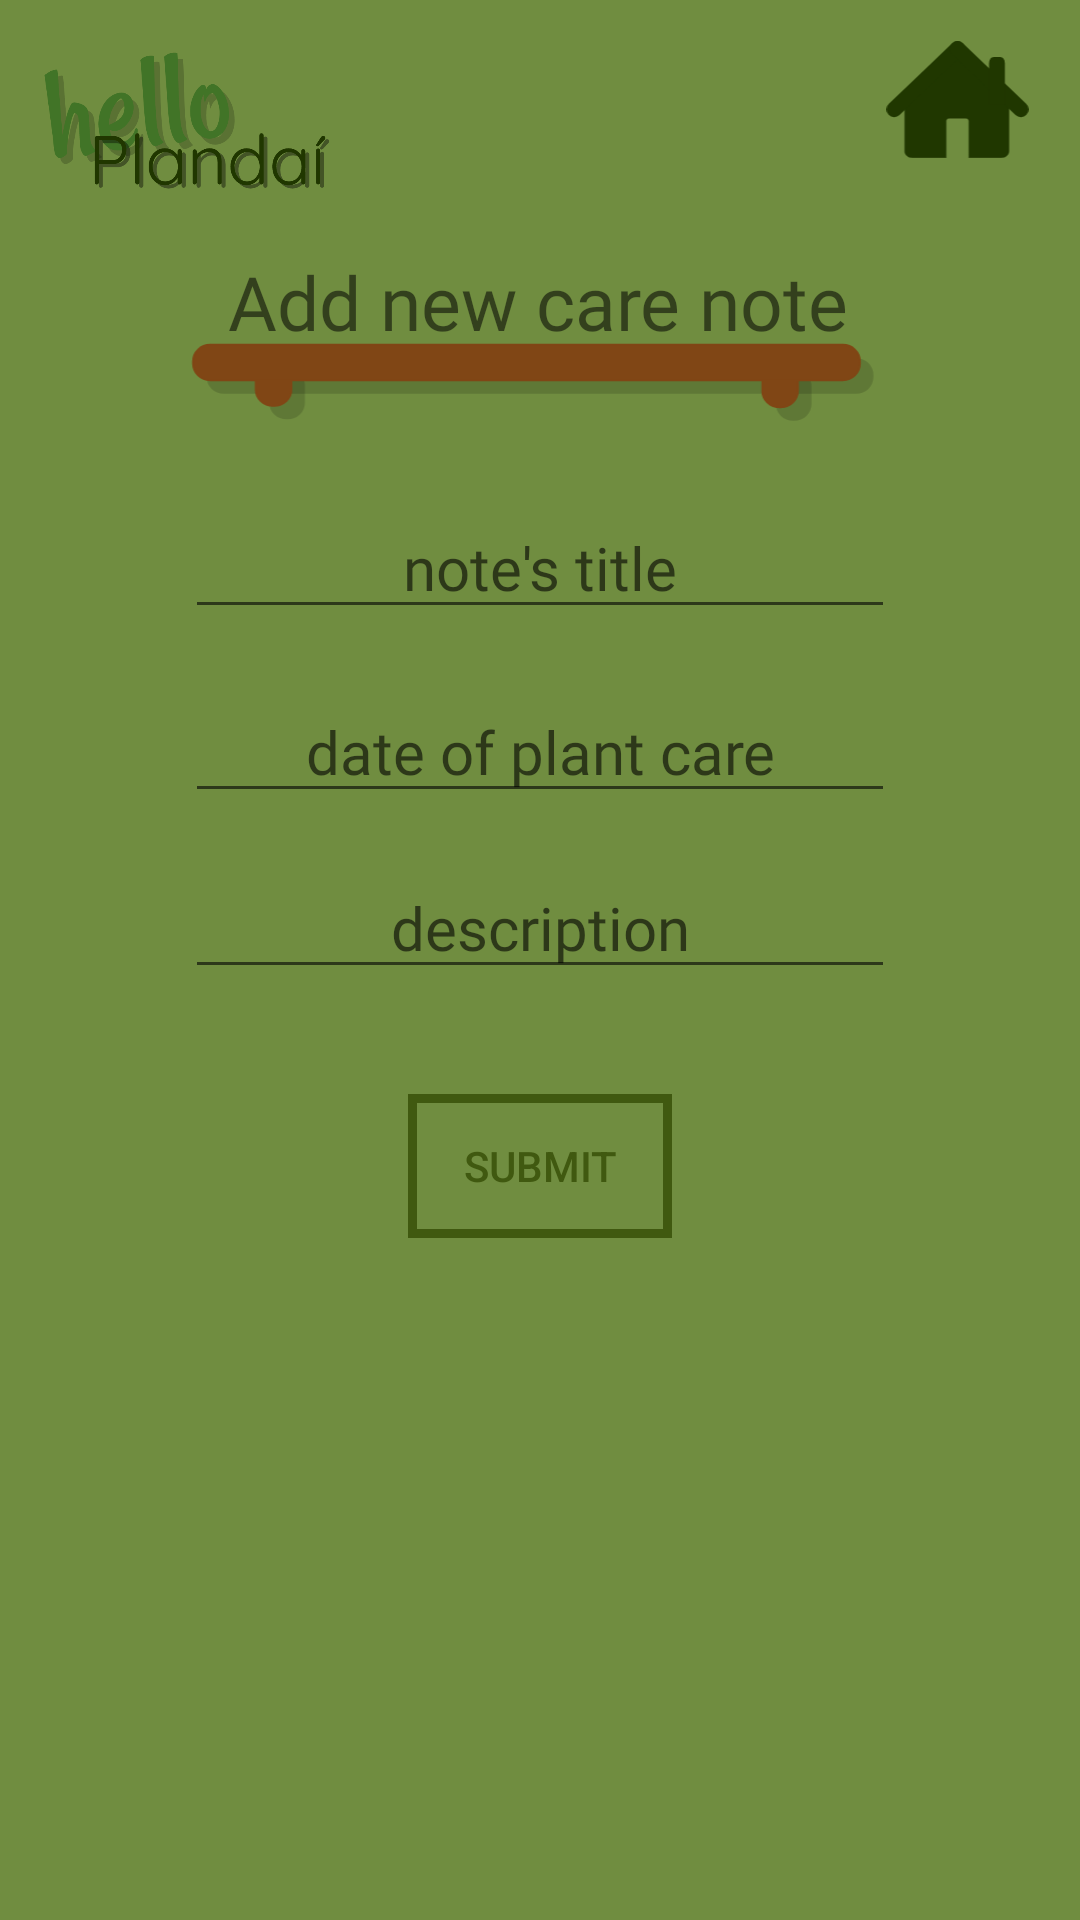

Icon click points for this 1080 x 1920 phone screenshot, format point (x, y):
homeicone: point (957, 99)
